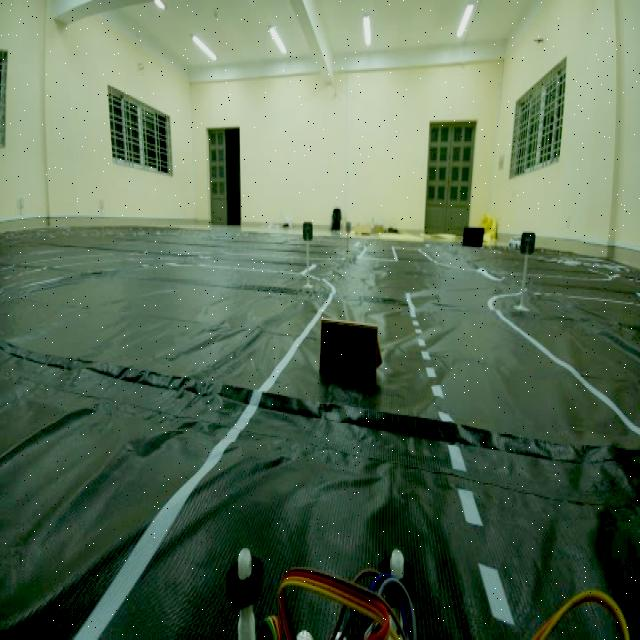roadblock: (316, 310, 388, 398)
